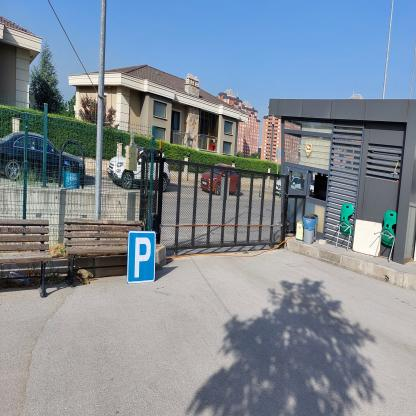Parking-Sign: (128, 231, 157, 286)
